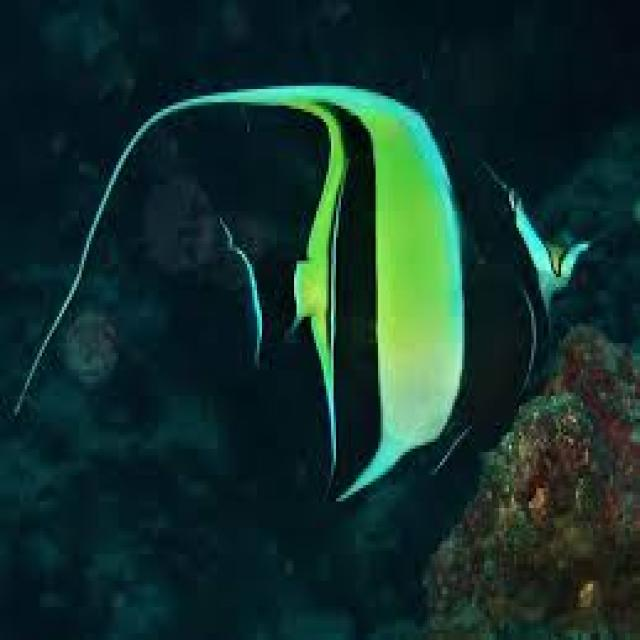MorishIdol: (8, 76, 590, 579)
